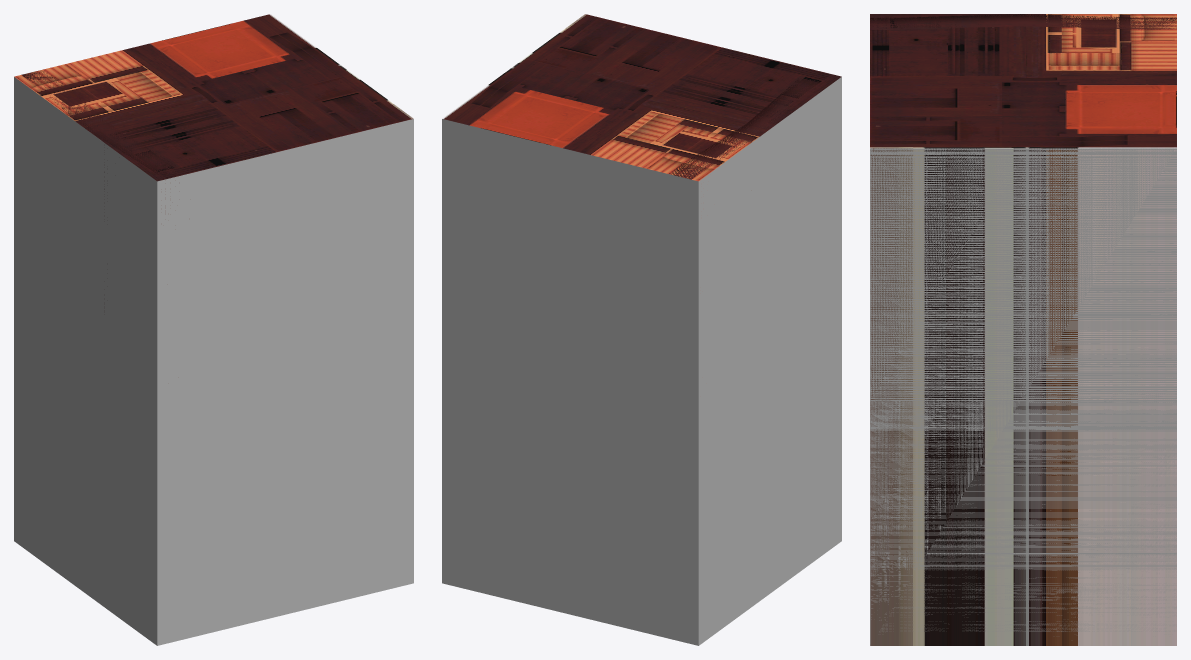
File: chair.DAE
3 views of the same model, side by side, from view 1: azimuth 30°, elevation 25°; view 2: azimuth 150°, elevation 25°; view 3: azimuth 270°, elevation 25° (orthographic). The views are drawn at different scales.
Visible parts, largest first — view 1: bounds, colbox-1, chair100; view 2: bounds, colbox-1, chair100; view 3: colbox-1, bounds, chair100.
Part boxes in pixels (x1,y1,x2,y2): bounds: (14, 77, 413, 645); colbox-1: (14, 14, 413, 189); chair100: (21, 69, 185, 178); bounds: (442, 77, 841, 645); colbox-1: (442, 14, 841, 181); chair100: (669, 78, 820, 179); colbox-1: (870, 14, 1176, 645); bounds: (870, 148, 1176, 631); chair100: (870, 14, 1176, 29).
Size of the model in its own units: 64.49 by 62.31 by 112.
